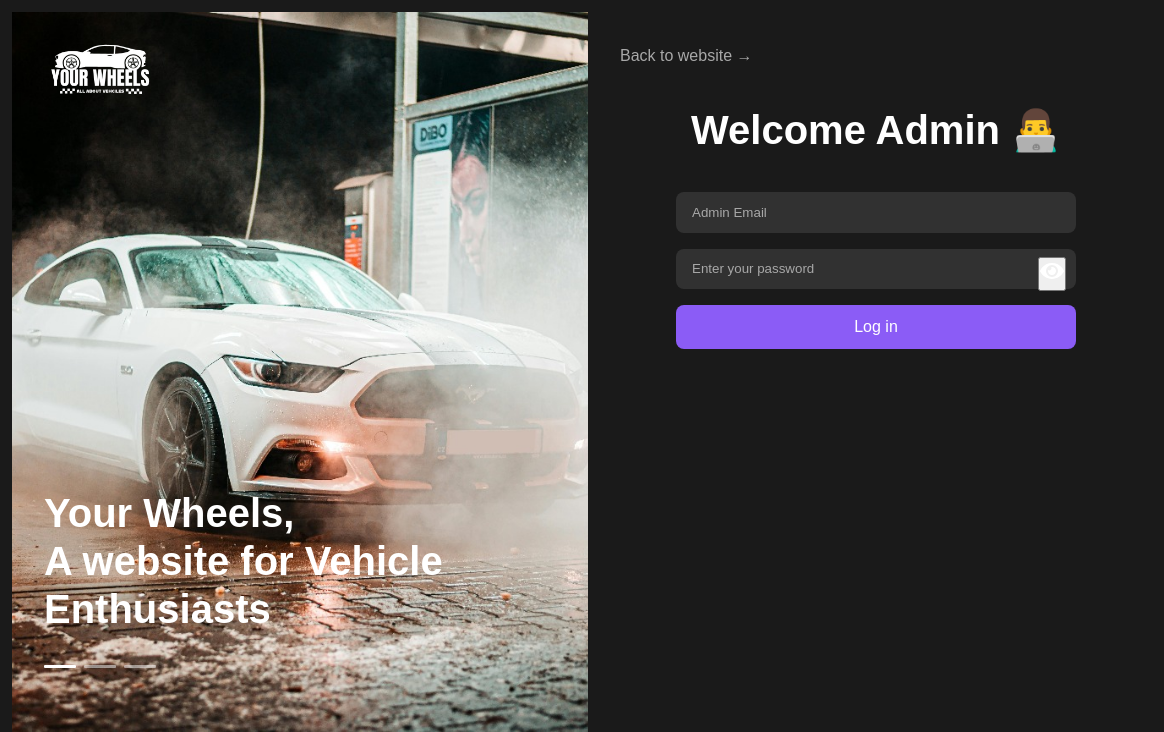
Scenario: AdminLogin Component › shows error if email or password is missing
This screenshot has width=1164, height=732.
Click the button "Log in".
click(876, 327)  # box top-left (676, 305), bottom-right (1076, 349)
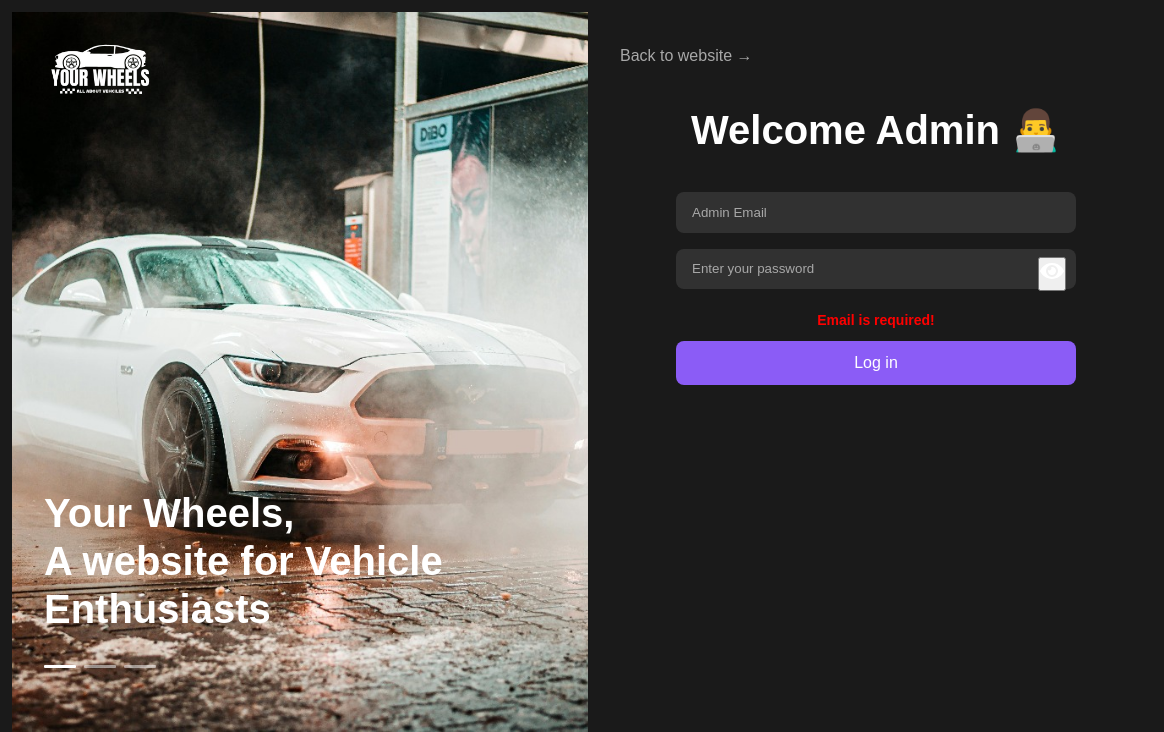
Expected: the text "Email is required!" is shown, top-left (817, 312), bottom-right (935, 328)
Type "admin@example.com" into the field with placeholder "Admin Email".
click(876, 212); type("admin@example.com")  # box top-left (676, 192), bottom-right (1076, 233)
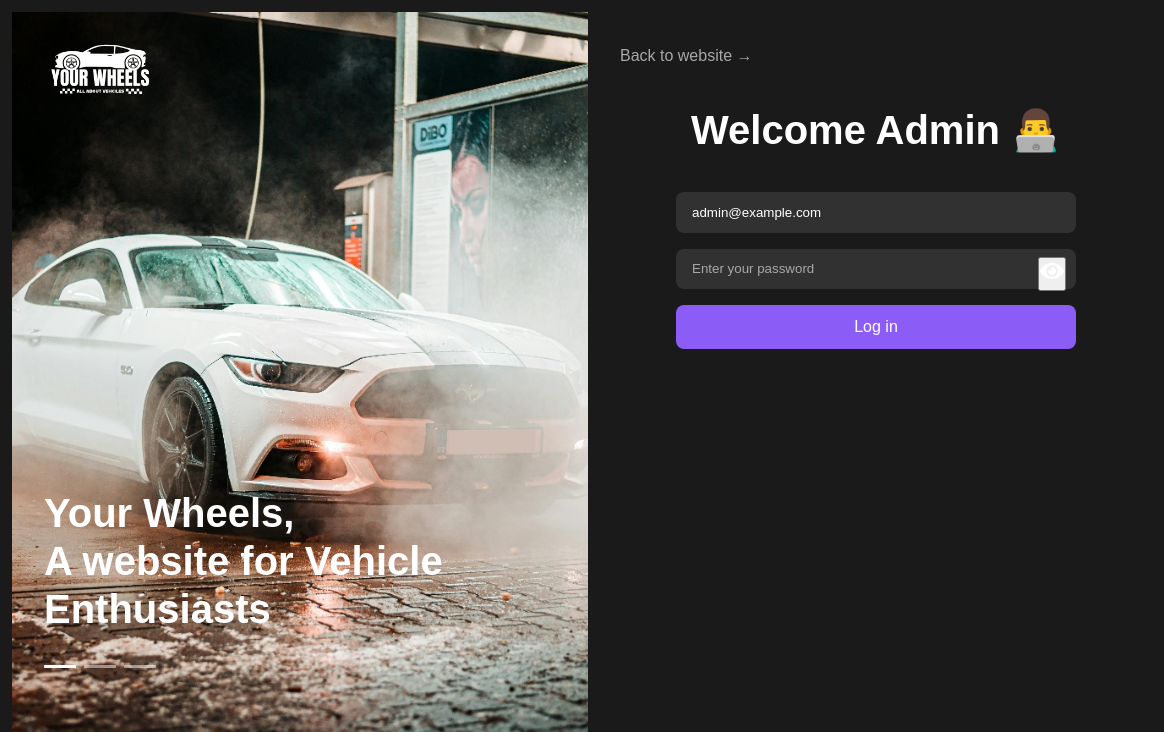
Click the button "Log in".
click(876, 327)  # box top-left (676, 305), bottom-right (1076, 349)
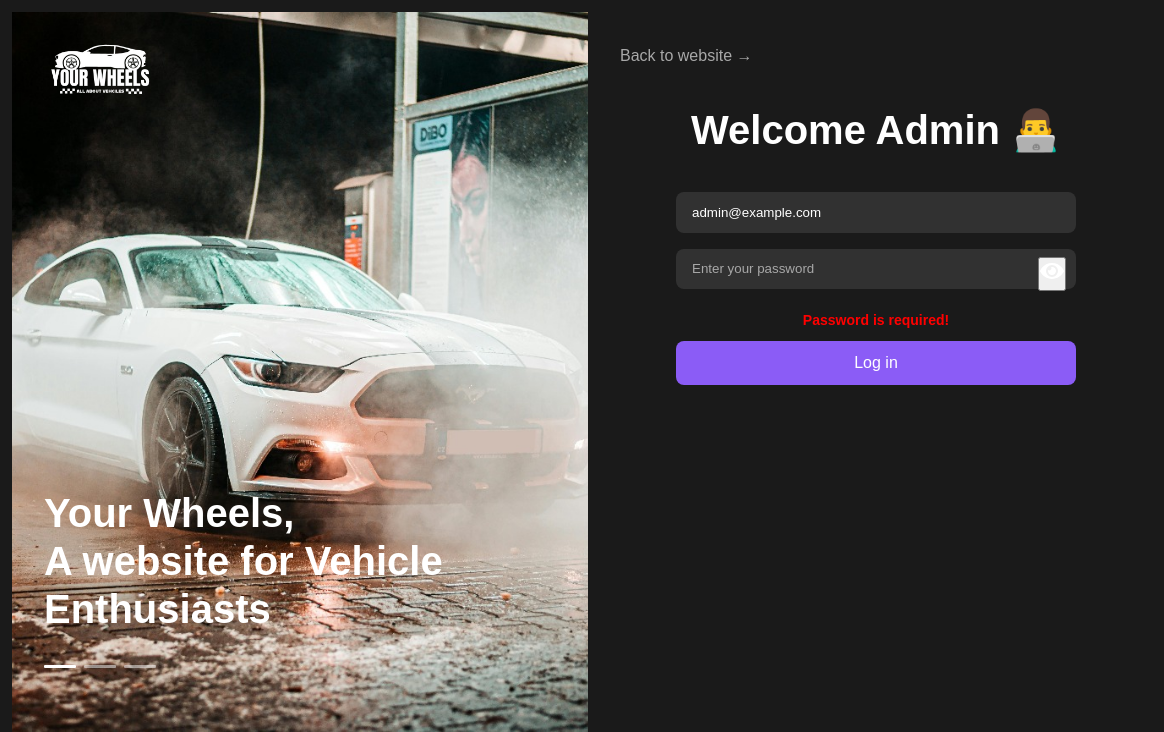
Expected: the text "Password is required!" is shown, top-left (803, 312), bottom-right (949, 328)
